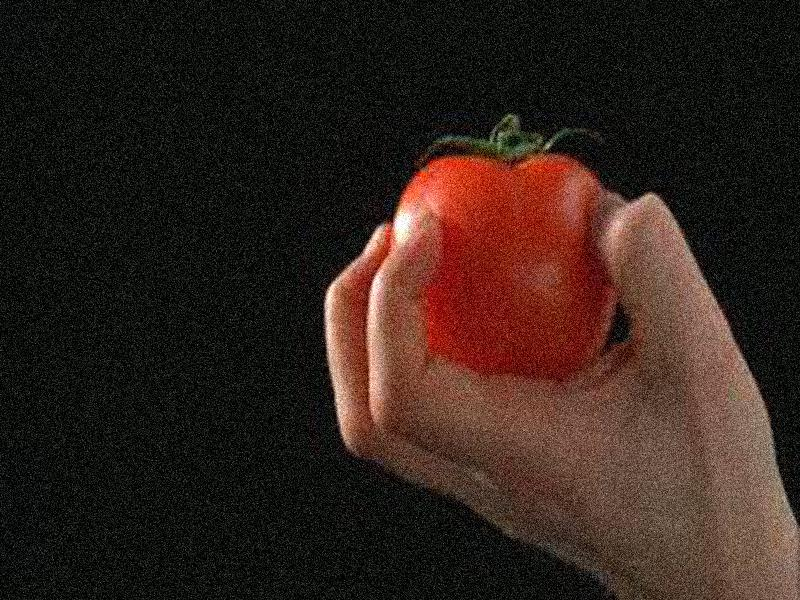Tomato: (393, 118, 615, 371)
